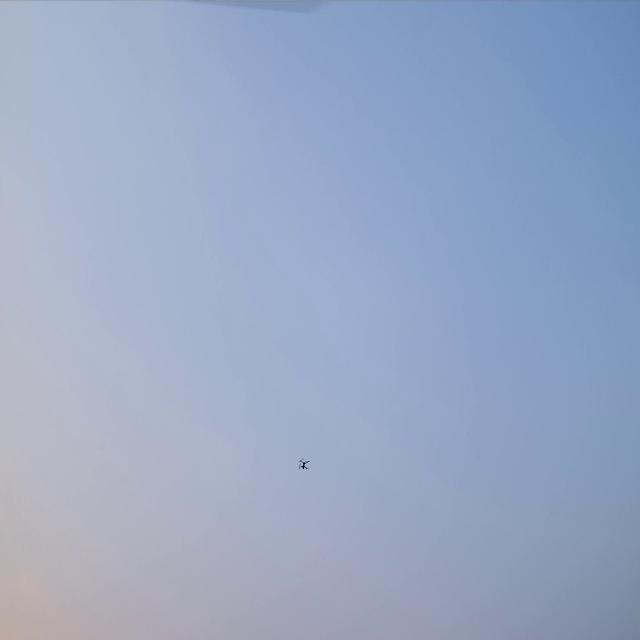UAV: (298, 457, 310, 471)
